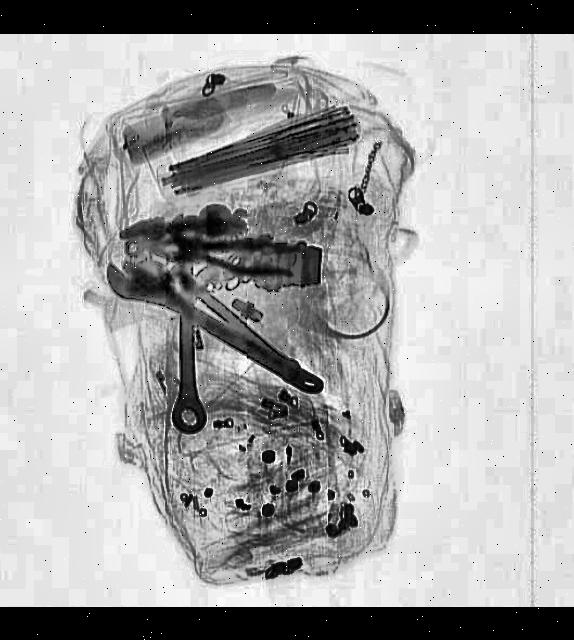Pliers: (148, 226, 302, 276)
Wrench: (96, 241, 334, 409)
